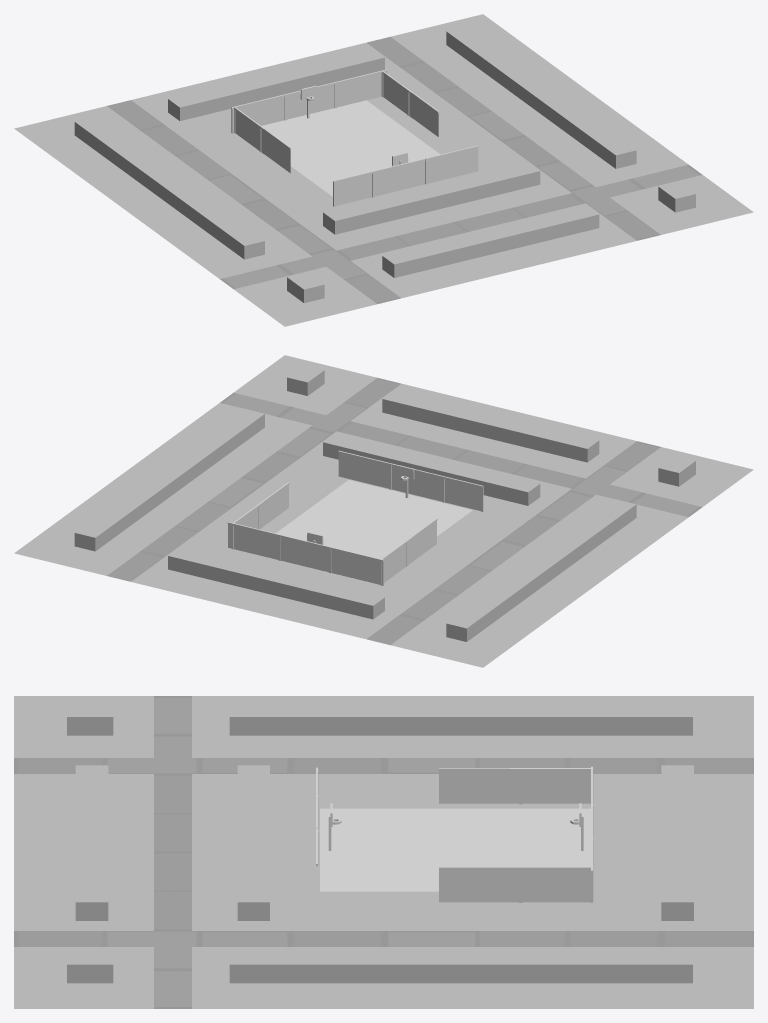
Rendered from tile_poi_park_6x6_b_2.fbx.
The picture shows the model from 3 angles, top to bottom: view 1: azimuth 30°, elevation 25°; view 2: azimuth 150°, elevation 25°; view 3: azimuth 270°, elevation 25°; orthographic projection. The views are drawn at different scales.
Parts seen in each view (by area): view 1: tile_park_6x6_b_2; view 2: tile_park_6x6_b_2; view 3: tile_park_6x6_b_2.
Part boxes in pixels (<box>): tile_park_6x6_b_2: <box>14,14,753,326</box>; tile_park_6x6_b_2: <box>14,355,753,667</box>; tile_park_6x6_b_2: <box>14,696,753,1008</box>.
Bounding box in the file's own units: 9600 × 604 × 9600.
